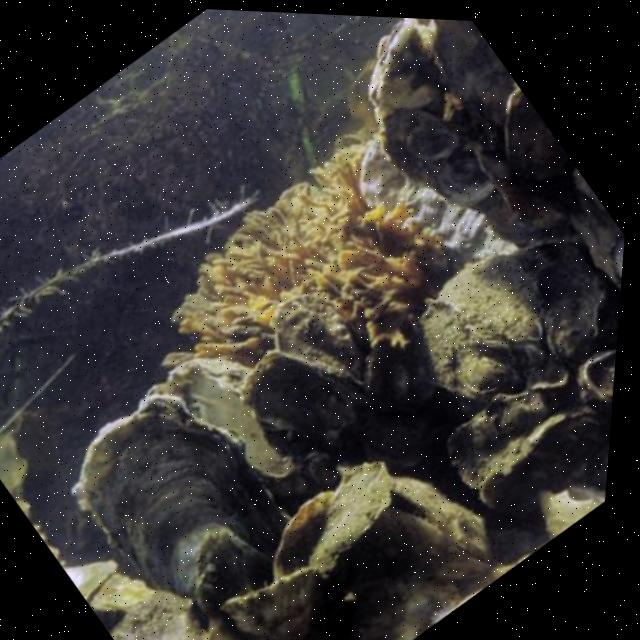Oyster-Closed: (139, 357, 309, 494)
Oyster-Indeterminate: (78, 400, 290, 629), (362, 133, 512, 264), (246, 347, 362, 450), (451, 384, 567, 486), (516, 242, 607, 363), (433, 251, 547, 341), (306, 461, 394, 577), (421, 302, 523, 402), (435, 19, 520, 124), (368, 19, 444, 123), (273, 296, 365, 380), (220, 566, 319, 640), (508, 86, 572, 183), (111, 596, 207, 640), (366, 350, 438, 408), (89, 568, 155, 613), (67, 560, 121, 606)
Oyster-Open: (371, 475, 497, 580), (536, 483, 606, 540)
